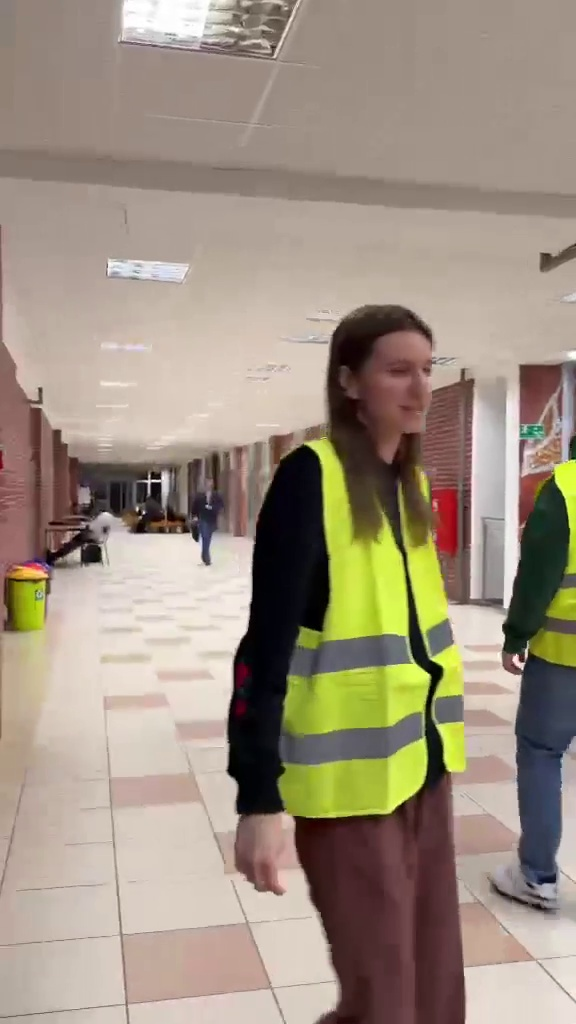vest: (239, 276, 466, 1023), (491, 423, 576, 915)
